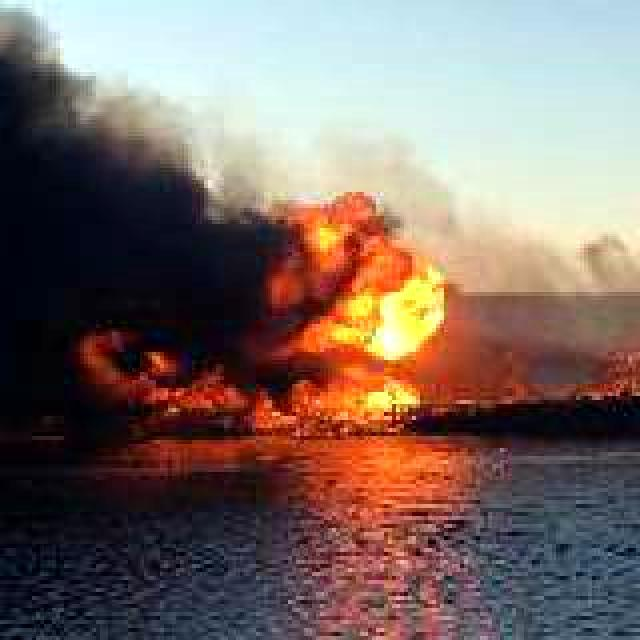smoke: (0, 0, 286, 446), (444, 164, 640, 400)
